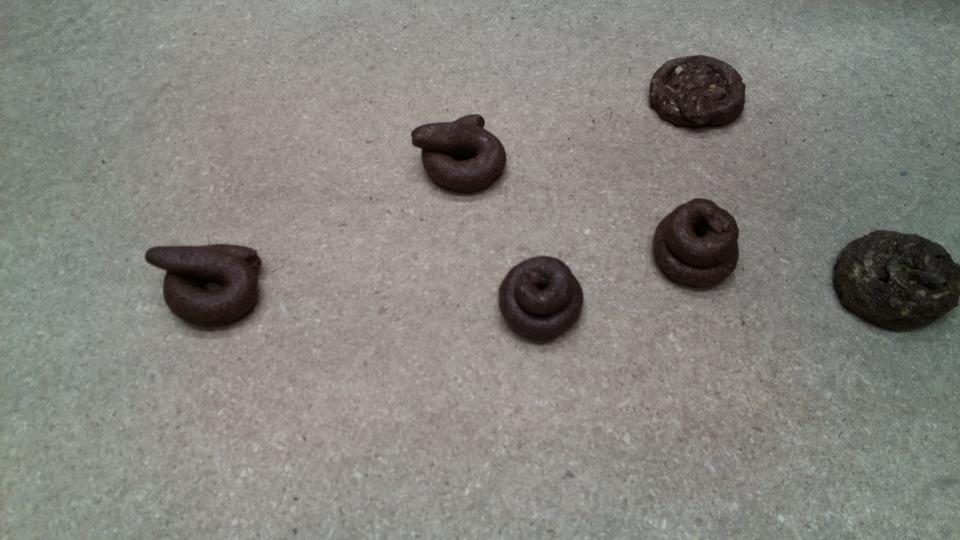poop: (831, 227, 960, 336), (143, 238, 267, 335), (649, 193, 744, 293), (409, 110, 509, 199), (495, 252, 588, 346), (646, 53, 750, 135)
